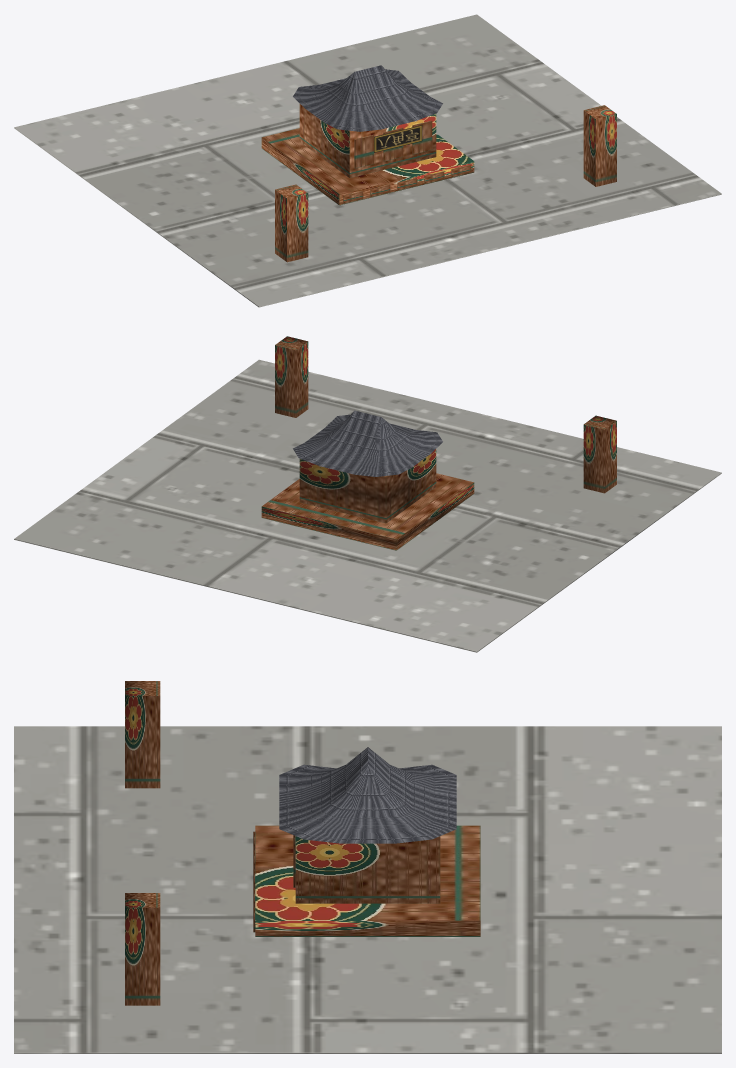
3 renders of one model, top to bottom at view 1: azimuth 30°, elevation 25°; view 2: azimuth 150°, elevation 25°; view 3: azimuth 270°, elevation 25°, orthographic. The views are drawn at different scales.
Visible parts, largest first — view 1: 11140_02_04628_022_01_L2__base, 11140_02_04628_022_02_L2__body, 11140_02_04628_022_03_L2__roof, 11140_02_04628_022_06_L2__green, 11140_02_04628_022_05_L2__openings, 11140_02_04628_022_04_L2__sign; view 2: 11140_02_04628_022_01_L2__base, 11140_02_04628_022_02_L2__body, 11140_02_04628_022_03_L2__roof, 11140_02_04628_022_06_L2__green; view 3: 11140_02_04628_022_01_L2__base, 11140_02_04628_022_02_L2__body, 11140_02_04628_022_03_L2__roof, 11140_02_04628_022_06_L2__green.
Part boxes in pixels (x1,y1,x2,y2): 11140_02_04628_022_01_L2__base: [14, 14, 721, 307]; 11140_02_04628_022_02_L2__body: [261, 104, 474, 205]; 11140_02_04628_022_03_L2__roof: [293, 65, 442, 131]; 11140_02_04628_022_06_L2__green: [275, 105, 616, 262]; 11140_02_04628_022_05_L2__openings: [343, 120, 471, 203]; 11140_02_04628_022_04_L2__sign: [374, 125, 422, 152]; 11140_02_04628_022_01_L2__base: [14, 359, 721, 652]; 11140_02_04628_022_02_L2__body: [261, 449, 474, 550]; 11140_02_04628_022_03_L2__roof: [293, 410, 442, 476]; 11140_02_04628_022_06_L2__green: [275, 336, 616, 493]; 11140_02_04628_022_01_L2__base: [14, 726, 721, 1053]; 11140_02_04628_022_02_L2__body: [255, 825, 480, 936]; 11140_02_04628_022_03_L2__roof: [279, 747, 456, 843]; 11140_02_04628_022_06_L2__green: [125, 681, 160, 1005].
Bounding box in the file's own units: 48 × 9.2 × 44.
5 materials, 5 textured.
